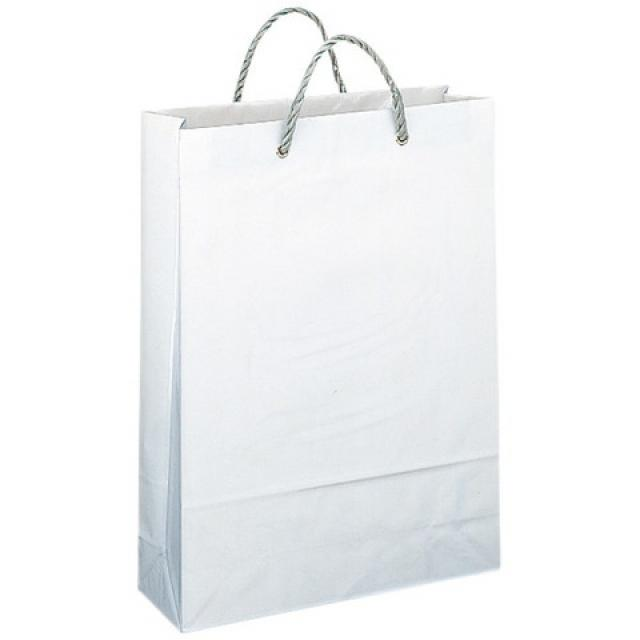paper bag: (132, 5, 506, 638)
